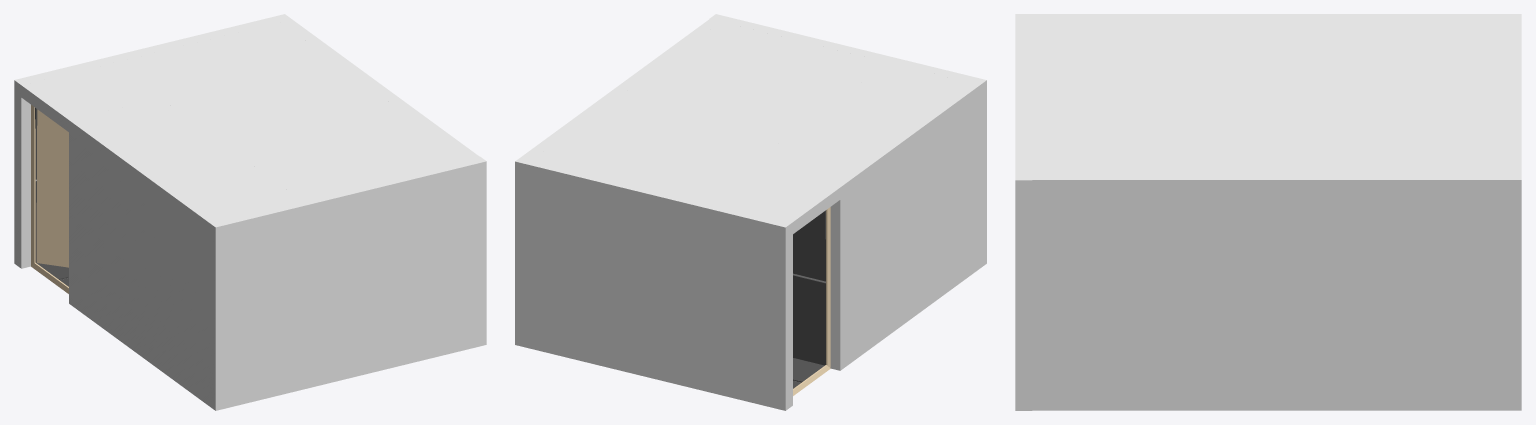
Rendered from Bathroom.fbx.
The picture shows the model from 3 angles, left to right: view 1: azimuth 30°, elevation 25°; view 2: azimuth 150°, elevation 25°; view 3: azimuth 270°, elevation 25°; orthographic projection. The views are drawn at different scales.
Parts seen in each view (by area): view 1: Bathroom_external_walls, Bathroom_door, Bathroom_tiles; view 2: Bathroom_external_walls, Bathroom_tiles, Bathroom_door; view 3: Bathroom_external_walls.
Boxes of the visible parts, bbox=[...] form: Bathroom_external_walls: bbox=[14, 14, 486, 410]; Bathroom_door: bbox=[31, 105, 68, 293]; Bathroom_tiles: bbox=[34, 107, 68, 286]; Bathroom_external_walls: bbox=[515, 14, 986, 410]; Bathroom_tiles: bbox=[793, 210, 825, 388]; Bathroom_door: bbox=[793, 207, 830, 395]; Bathroom_external_walls: bbox=[1015, 14, 1521, 410].
Size of the model in its own units: 302 by 195 by 388.
